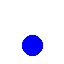circle: (22, 35, 42, 55)
